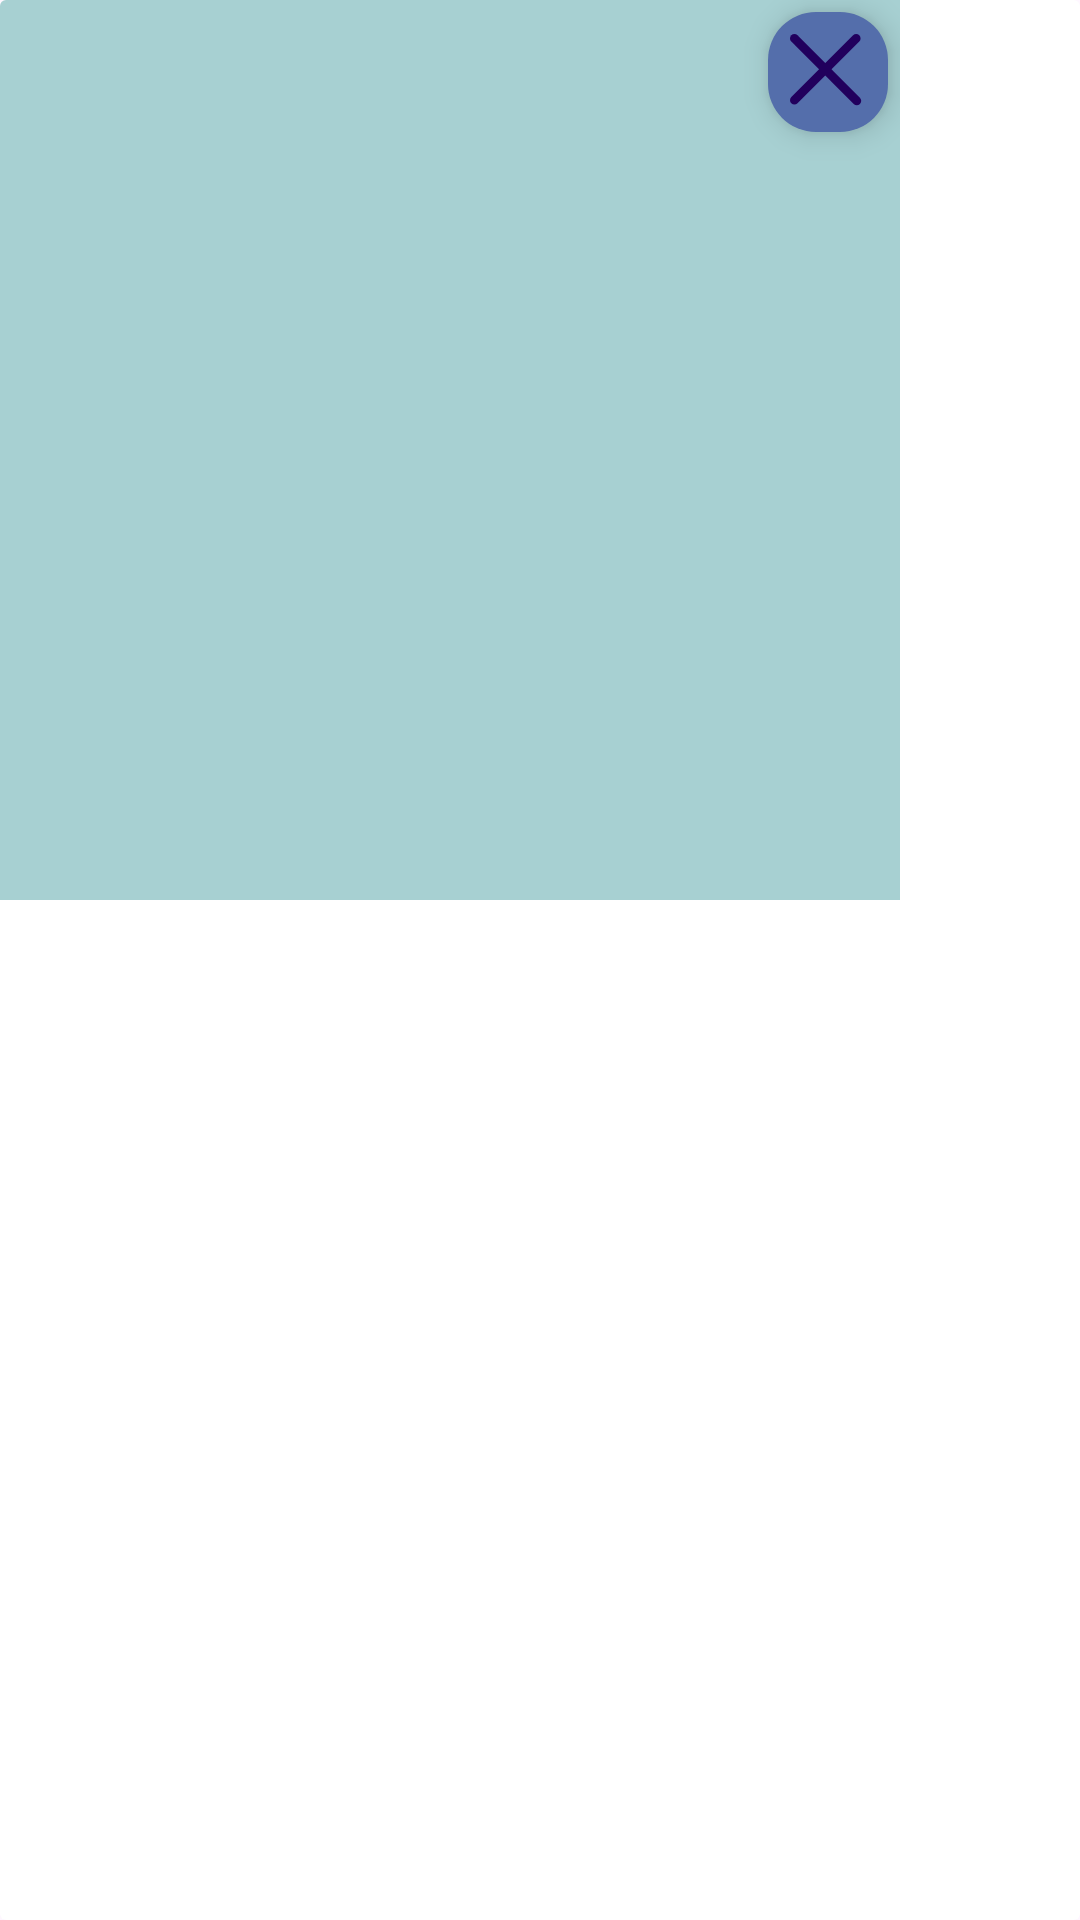

Screen size 1080x1920. Icon name, then its box in pixels as (x1, y1, x2, y2):
cancel: (768, 12, 888, 132)
